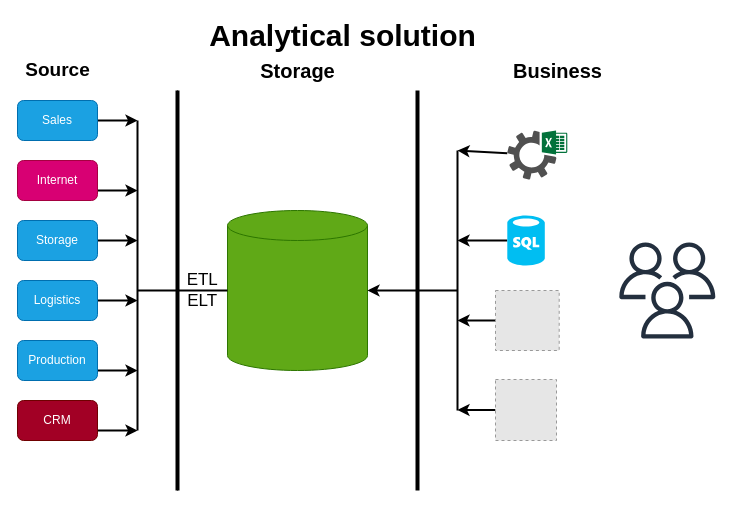
This 745x510 diagram has some shape labels left out. Grey dashed boxes stand in for pictures. The shapes that lost their labels are listed below. From the top down, each one's centre as x and y in pixels, then its label:
point (297, 290): DWH
point (666, 290): Users
